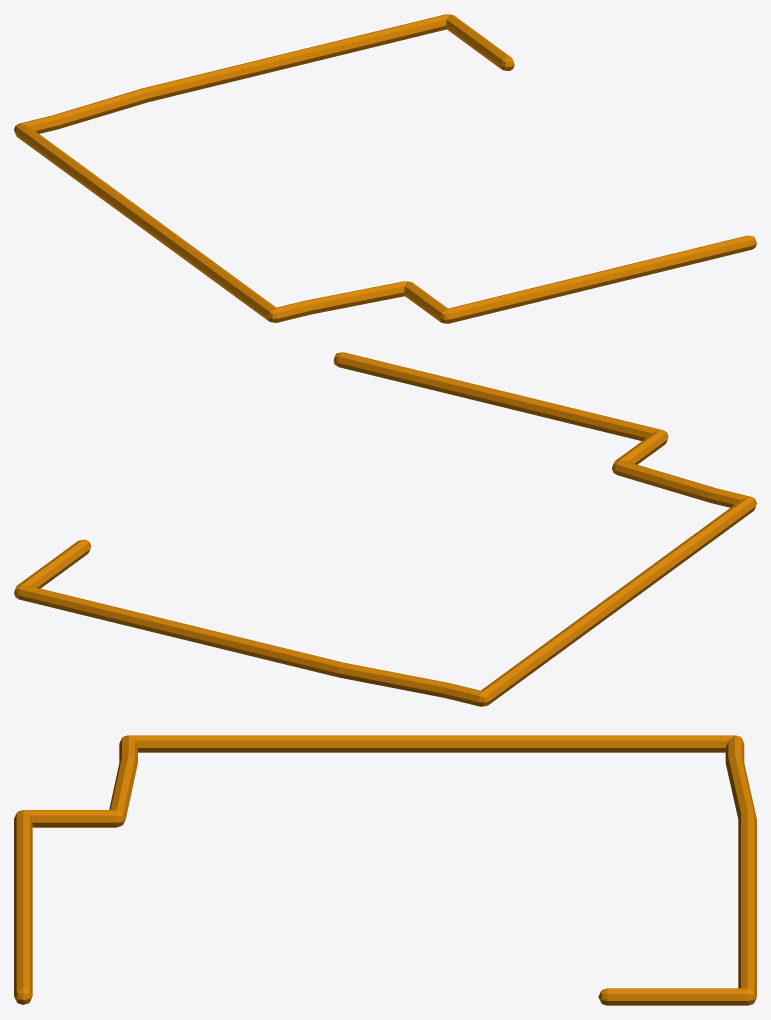
3 renders of one model, top to bottom at view 1: azimuth 30°, elevation 25°; view 2: azimuth 150°, elevation 25°; view 3: azimuth 270°, elevation 25°, orthographic. The views are drawn at different scales.
Bounding box in the file's own units: 662 × 20 × 796.
